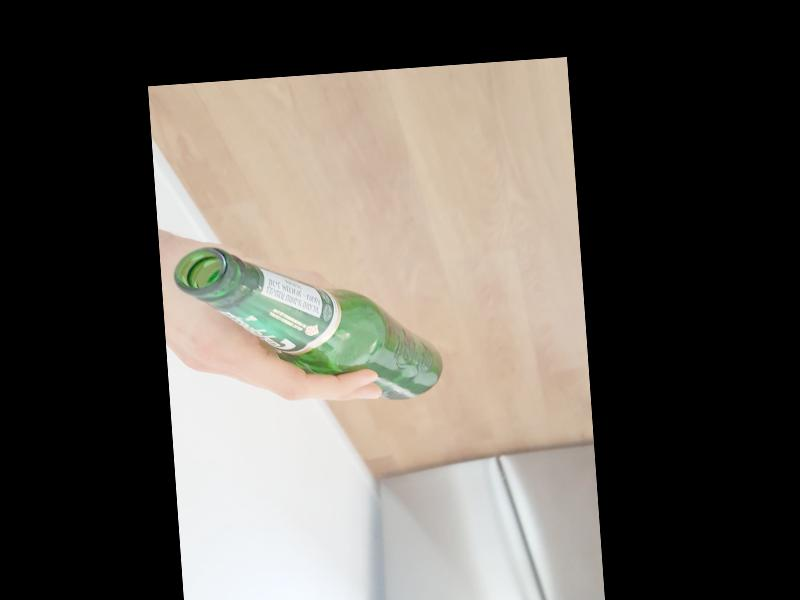Beer: (171, 230, 445, 414)
